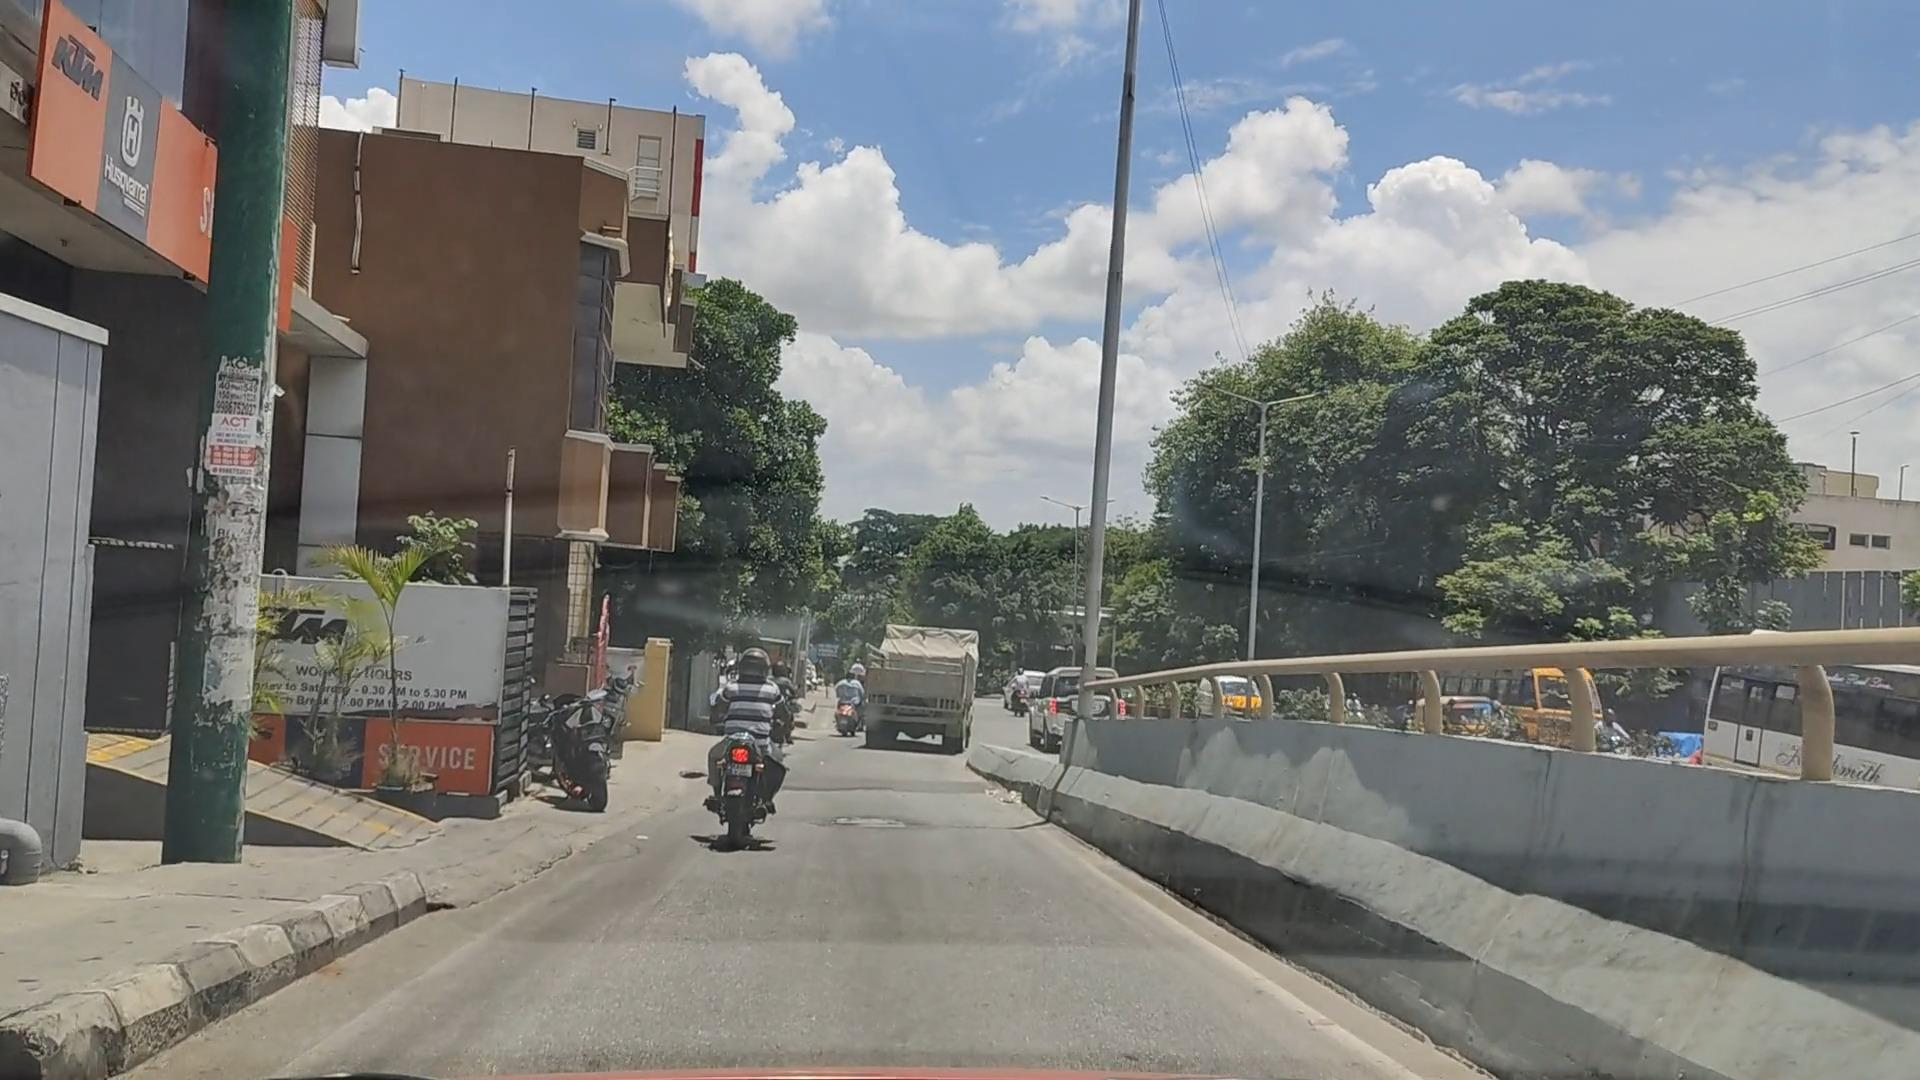HMV: (844, 618, 986, 777)
LMV: (541, 674, 628, 829)
RoadDamages: (808, 786, 924, 840)
